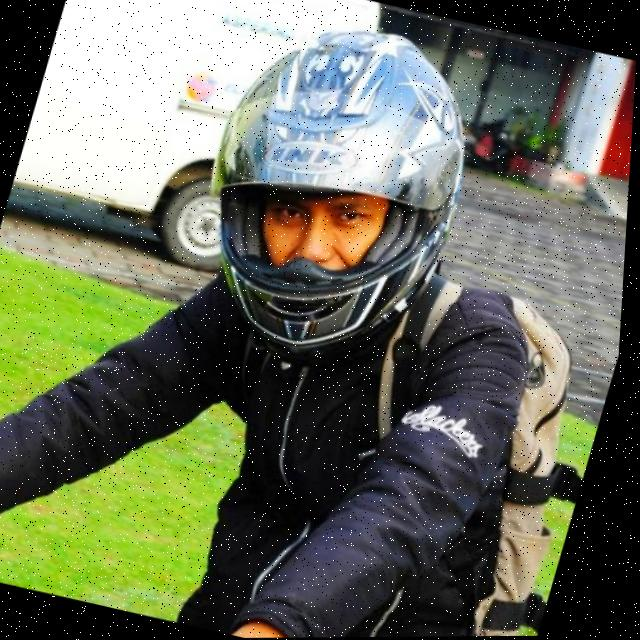helmet: (158, 0, 510, 387)
